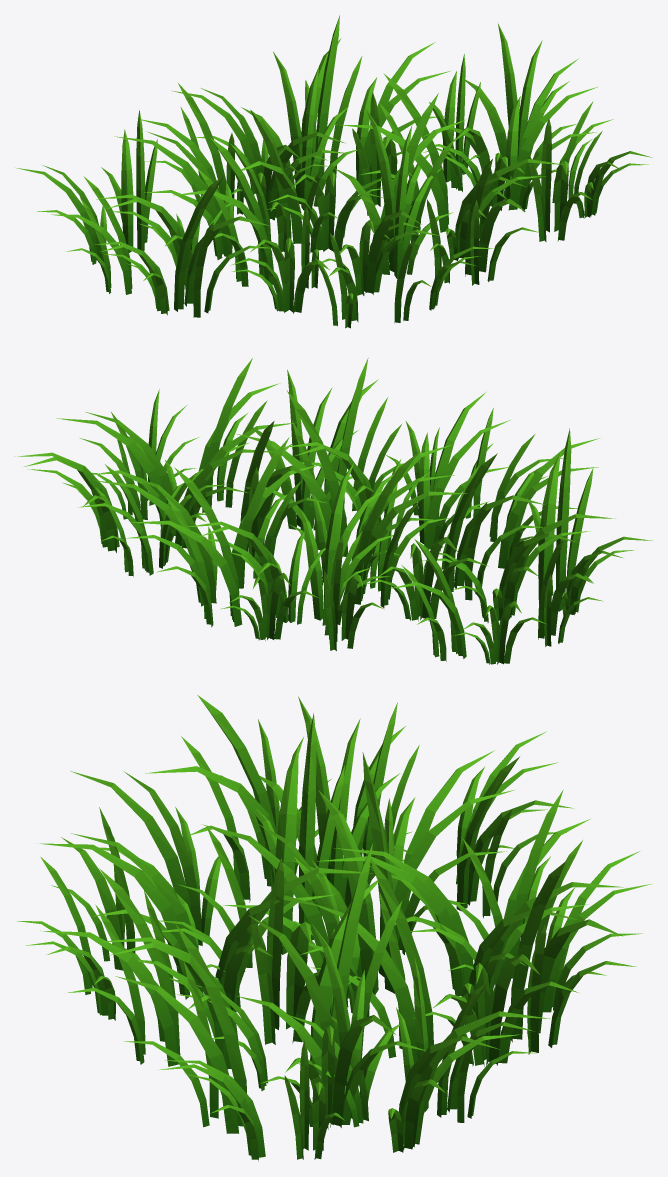
Rendered from GRASS 3D 1.obj.
3 views of the same model, one above another, from view 1: azimuth 30°, elevation 25°; view 2: azimuth 150°, elevation 25°; view 3: azimuth 270°, elevation 25° (orthographic). The views are drawn at different scales.
Parts seen in each view (by area): view 1: default 7, default 38, default 12, default 24, default 13, default 39, default 22, default 2, default 27, default 16, default, default 6 (+27 smaller); view 2: default 38, default, default 16, default 13, default 9, default 2, default 8, default 27, default 15, default 5, default 37, default 33 (+29 smaller); view 3: default 2, default 27, default 16, default 6, default 8, default 13, default 34, default 21, default 15, default 22, default 38, default 25 (+28 smaller).
Part boxes in pixels (bbox=[...]): default 7: bbox=[334, 109, 453, 278]; default 38: bbox=[174, 175, 271, 317]; default 12: bbox=[241, 51, 356, 210]; default 24: bbox=[505, 58, 598, 211]; default 13: bbox=[230, 110, 301, 251]; default 39: bbox=[101, 109, 157, 252]; default 22: bbox=[465, 23, 576, 179]; default 2: bbox=[173, 137, 273, 286]; default 27: bbox=[529, 118, 592, 241]; default 16: bbox=[301, 15, 362, 182]; default: bbox=[322, 210, 439, 295]; default 6: bbox=[465, 159, 539, 285]; default 38: bbox=[527, 428, 593, 611]; default: bbox=[418, 392, 510, 551]; default 16: bbox=[131, 467, 242, 627]; default 13: bbox=[354, 452, 467, 607]; default 9: bbox=[300, 462, 393, 625]; default 2: bbox=[444, 453, 545, 600]; default 8: bbox=[237, 390, 347, 556]; default 27: bbox=[198, 358, 280, 512]; default 15: bbox=[232, 437, 320, 588]; default 5: bbox=[252, 369, 364, 531]; default 37: bbox=[492, 514, 615, 620]; default 33: bbox=[364, 537, 488, 621]; default 2: bbox=[256, 713, 344, 954]; default 27: bbox=[115, 925, 246, 1133]; default 16: bbox=[511, 861, 636, 1054]; default 6: bbox=[40, 868, 180, 1066]; default 8: bbox=[251, 858, 319, 1044]; default 13: bbox=[292, 752, 395, 994]; default 34: bbox=[70, 771, 220, 945]; default 21: bbox=[235, 915, 399, 1118]; default 15: bbox=[309, 859, 433, 1064]; default 22: bbox=[388, 1011, 550, 1152]; default 38: bbox=[145, 695, 277, 902]; default 25: bbox=[310, 843, 402, 1074].
Size of the model in its own units: 2.58 by 0.6903 by 1.93.
1 material, 1 textured.
